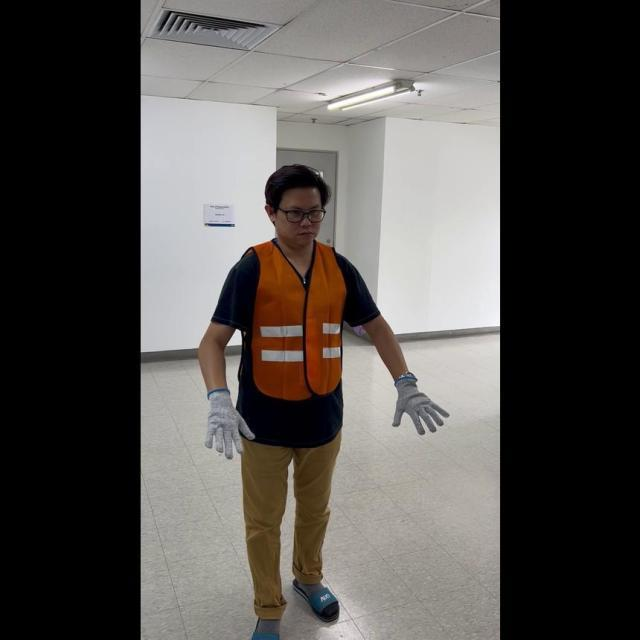gloved_hand: (386, 371, 448, 435), (201, 385, 254, 454)
